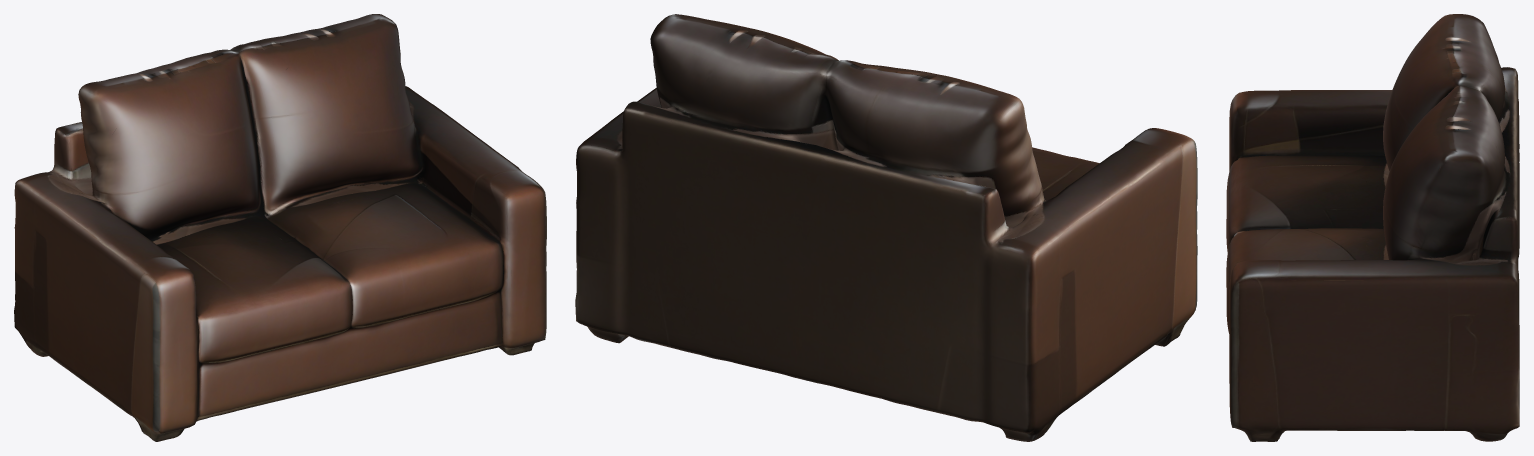
Rendered from Cozy_Living_Room_1030102917.glb.
3 views of the same model, side by side, from view 1: azimuth 30°, elevation 25°; view 2: azimuth 150°, elevation 25°; view 3: azimuth 270°, elevation 25° (orthographic). The views are drawn at different scales.
Size of the model in its own units: 2 by 1.3 by 1.29.
Materials: 1 (1 with a texture image).
